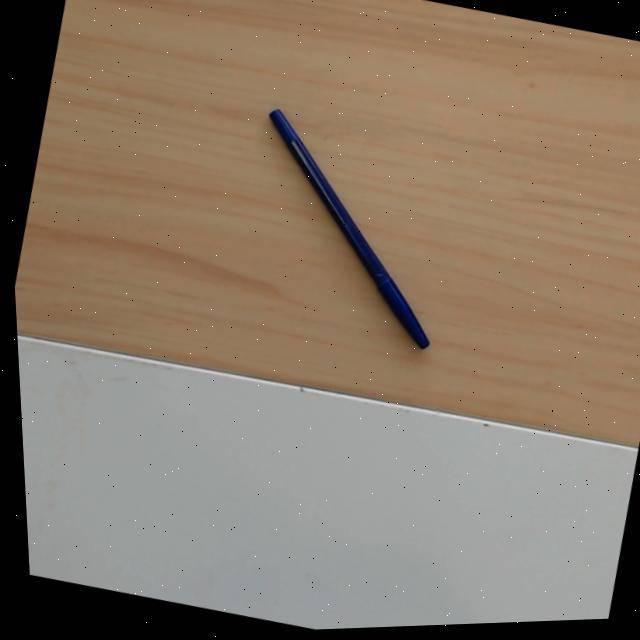Pulpen-Biru: (262, 105, 434, 352)
